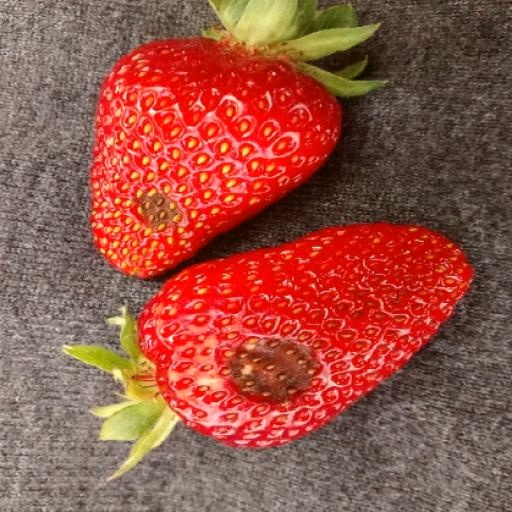Anthracnose Fruit Rot: (183, 105, 295, 180), (322, 277, 385, 326)
